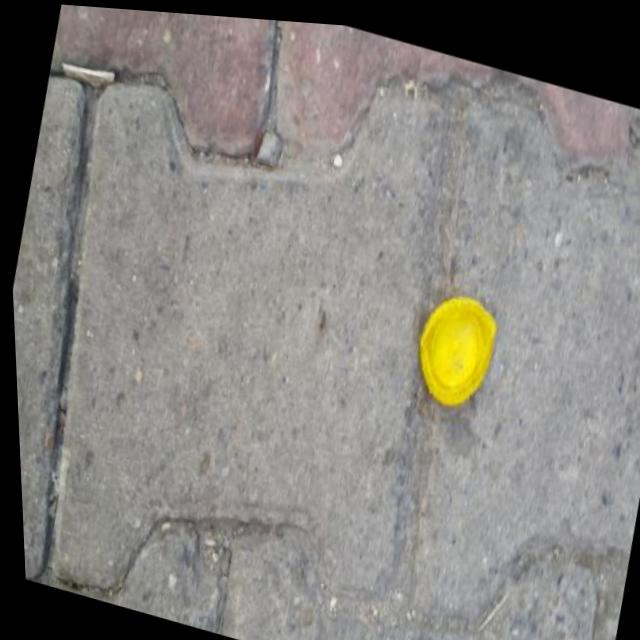plastic: (274, 410, 410, 518)
